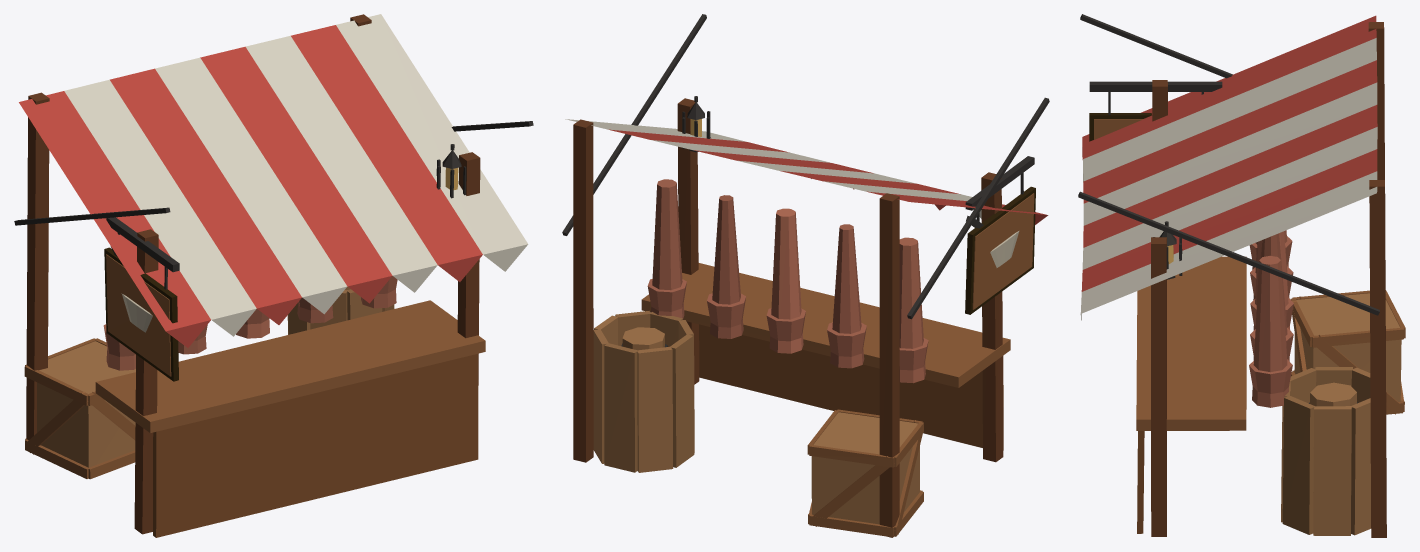
File: pottery-stall.glb
3 renders of one model, left to right at view 1: azimuth 30°, elevation 25°; view 2: azimuth 150°, elevation 25°; view 3: azimuth 270°, elevation 25°, orthographic. The views are drawn at different scales.
Visible parts, largest first — view 1: props/pottery-stall; view 2: props/pottery-stall; view 3: props/pottery-stall.
Part boxes in pixels (x1,y1,x2,y2): props/pottery-stall: (14,14,533,537); props/pottery-stall: (562,14,1049,537); props/pottery-stall: (1078,14,1405,537).
Bounding box in the file's own units: 2.74 × 2.51 × 2.1.
